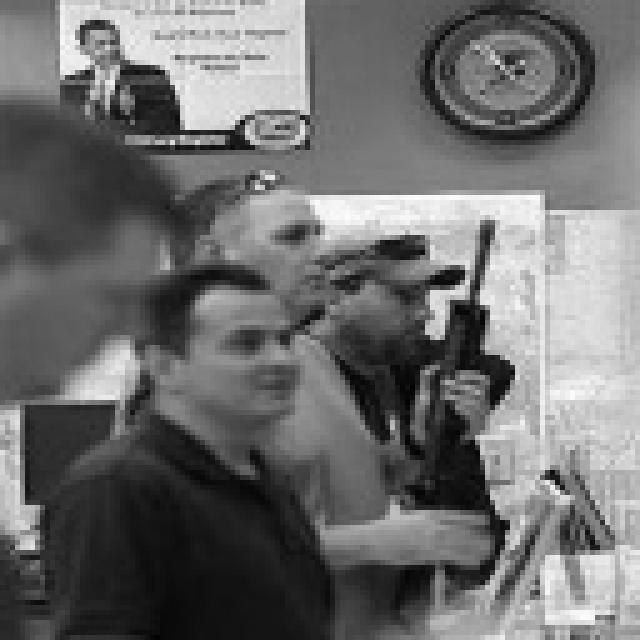Rifle: (384, 196, 515, 640)
